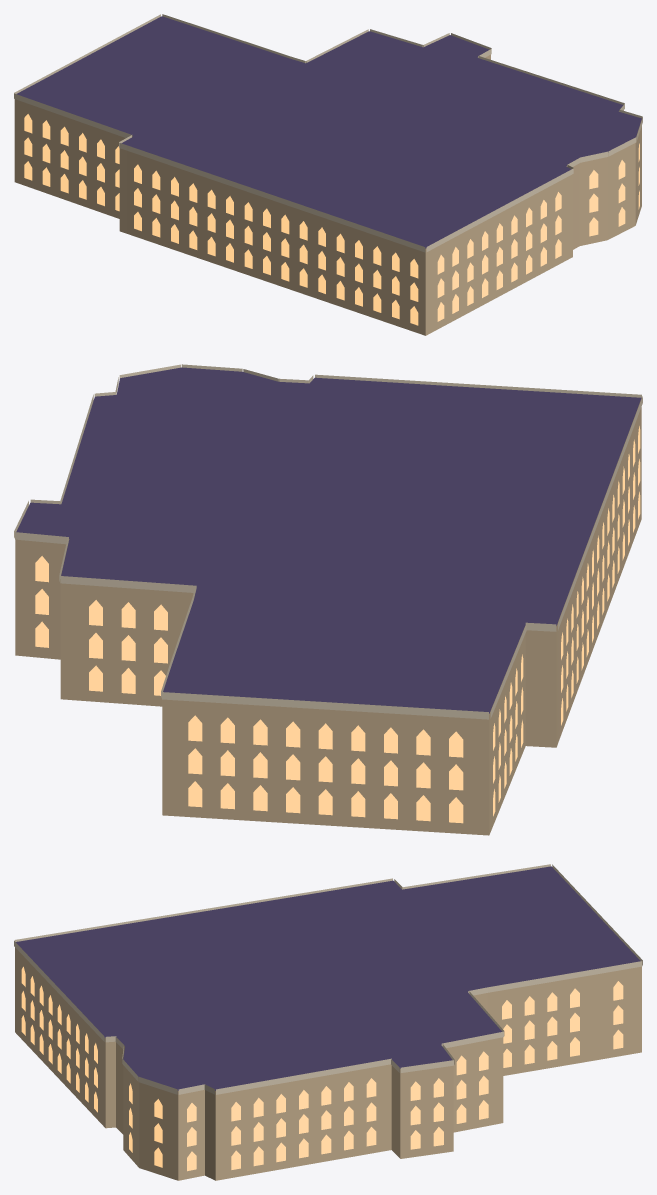
File: core-natural-sciences-building.glb
The picture shows the model from 3 angles, top to bottom: view 1: azimuth 30°, elevation 25°; view 2: azimuth 150°, elevation 25°; view 3: azimuth 270°, elevation 25°; orthographic projection. The views are drawn at different scales.
Parts seen in each view (by area): view 1: campus/core-natural-sciences-building-0; view 2: campus/core-natural-sciences-building-0; view 3: campus/core-natural-sciences-building-0.
Part boxes in pixels (box(x1,y1,x2,y2)): campus/core-natural-sciences-building-0: box(14, 14, 642, 335); campus/core-natural-sciences-building-0: box(14, 364, 642, 835); campus/core-natural-sciences-building-0: box(14, 864, 642, 1180).
Bounding box in the file's own units: 65.51 × 12.45 × 77.29.
